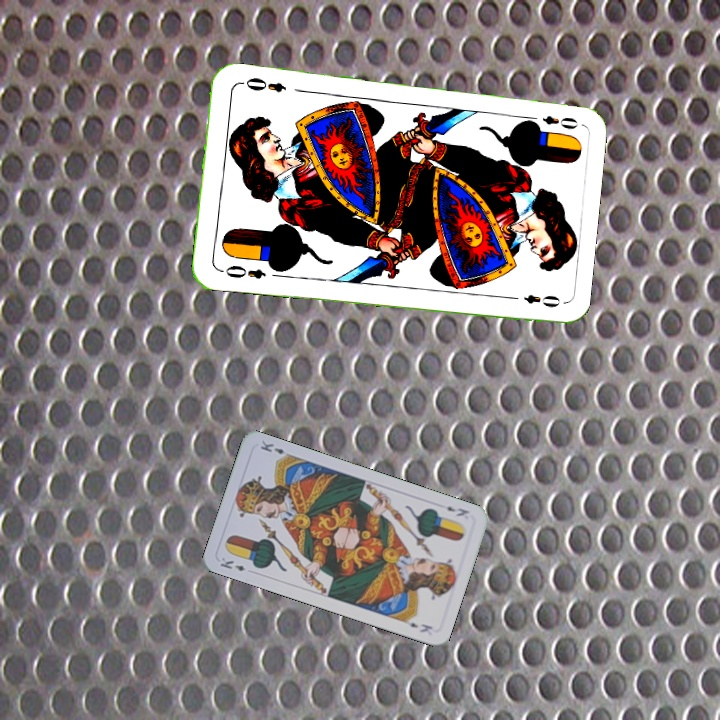EK: (216, 553, 248, 574), (443, 502, 472, 519)
EO: (216, 261, 268, 281), (538, 112, 581, 131)
